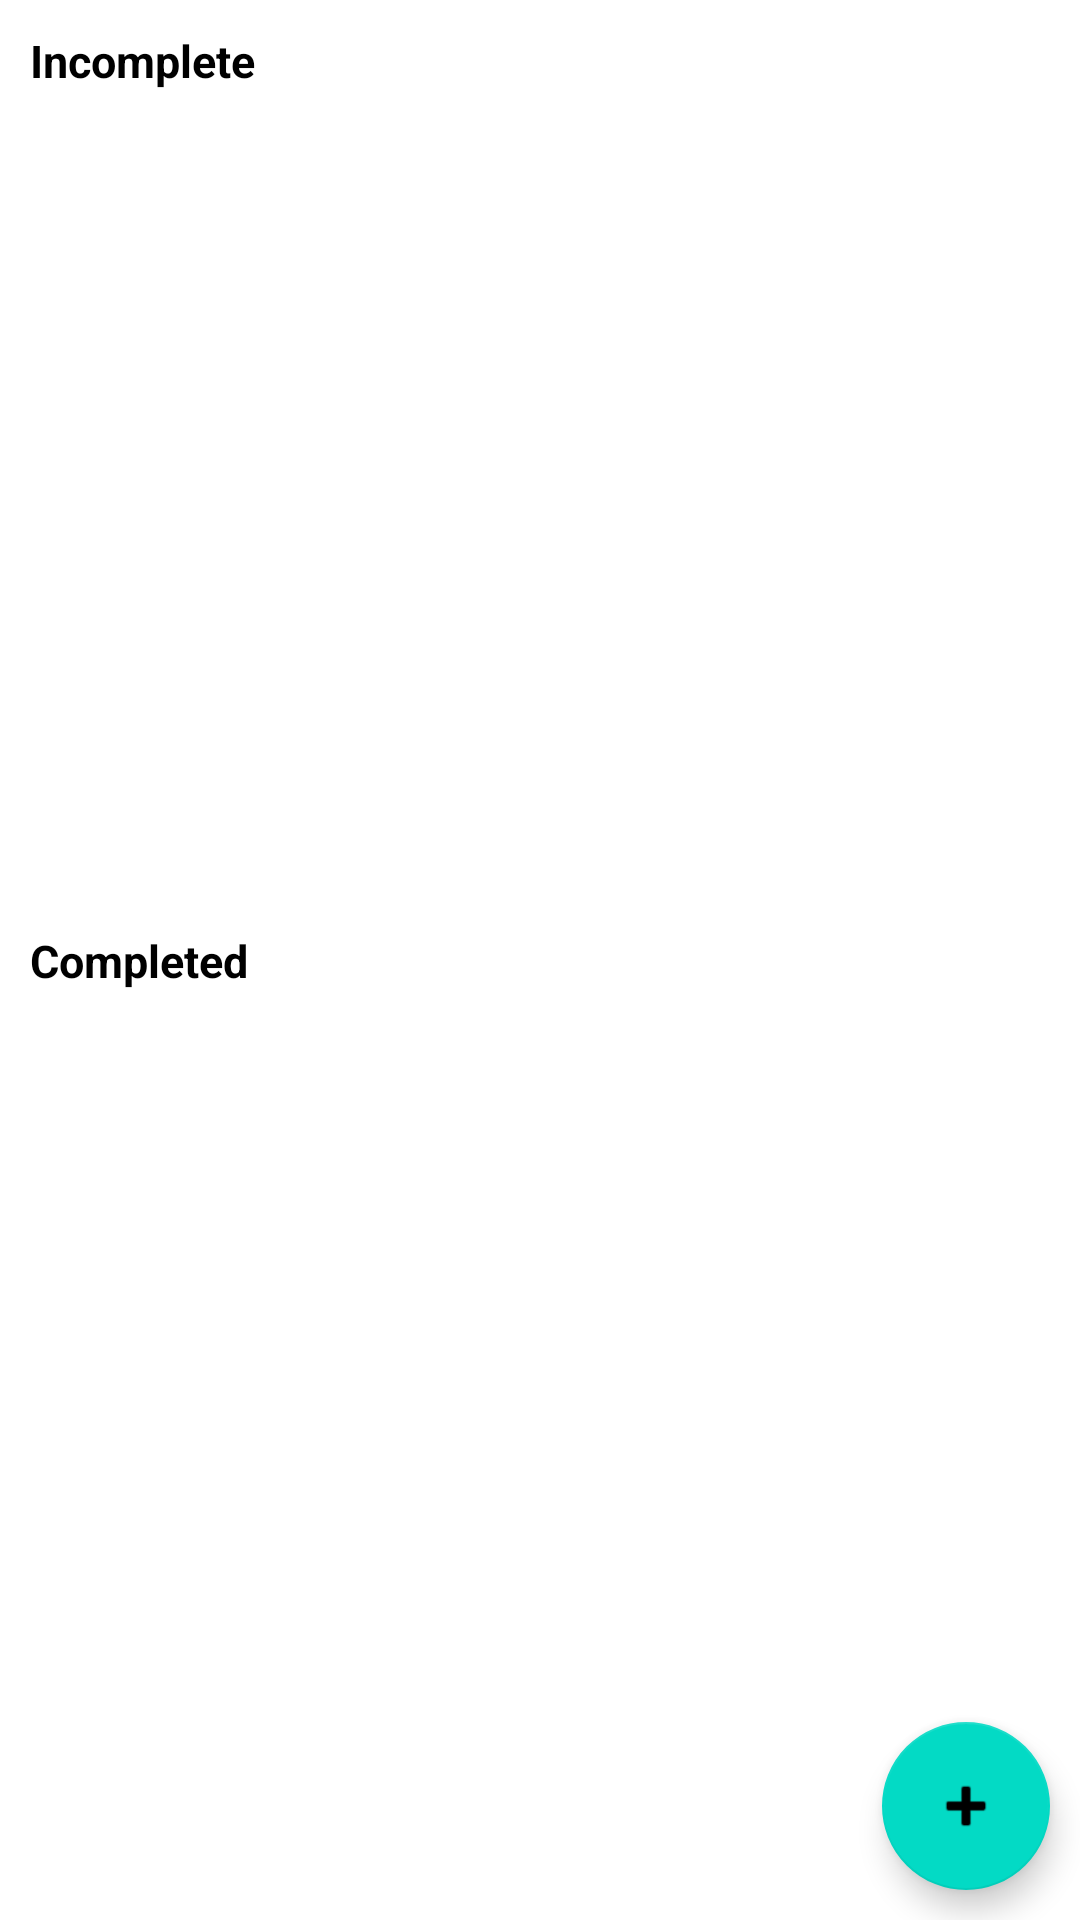

Where to tap for icons on this 1080 x 1920 app screen, as (x,y):
add: (966,1806)
